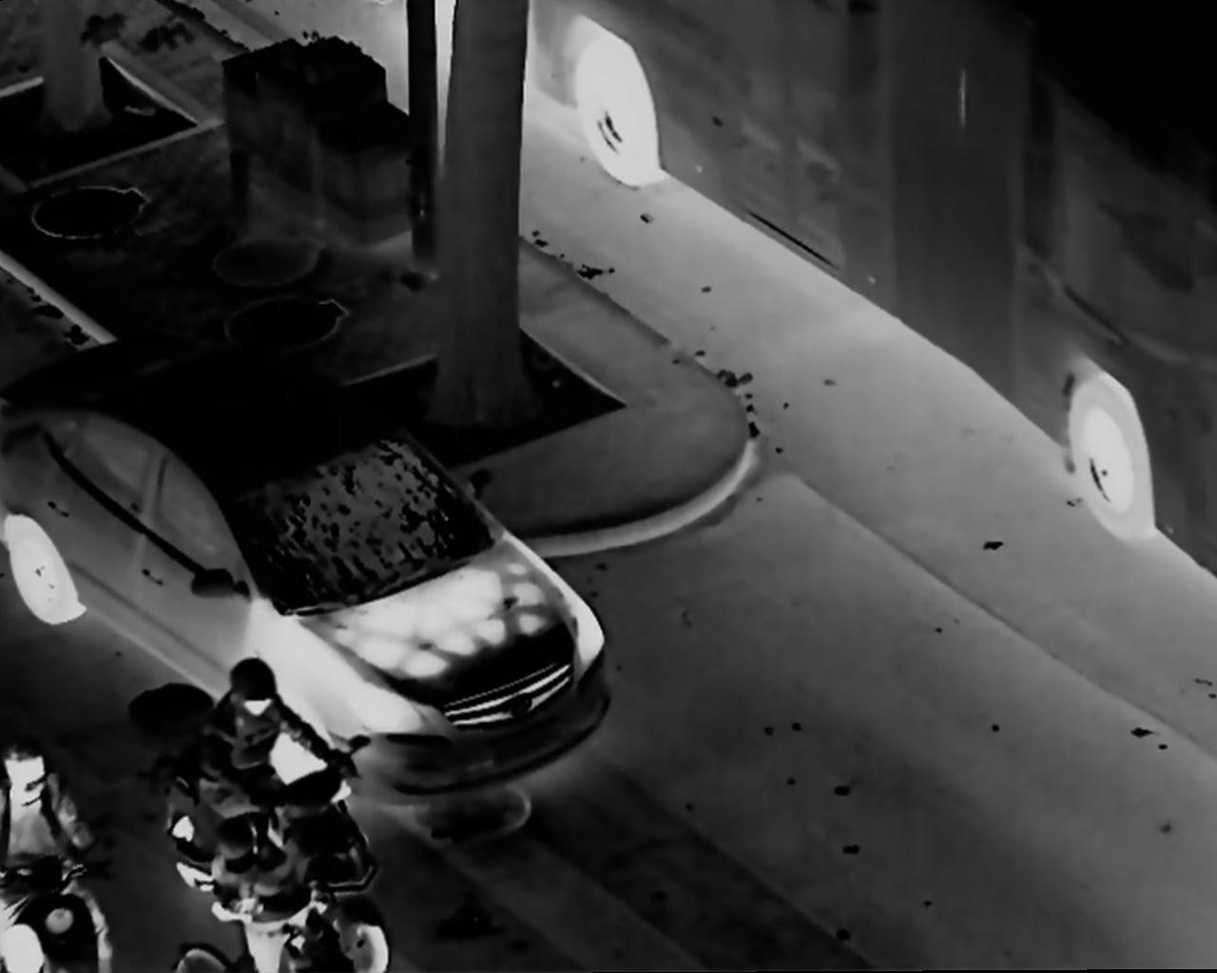person: (184, 639, 340, 898), (3, 726, 124, 973), (200, 817, 353, 973)
